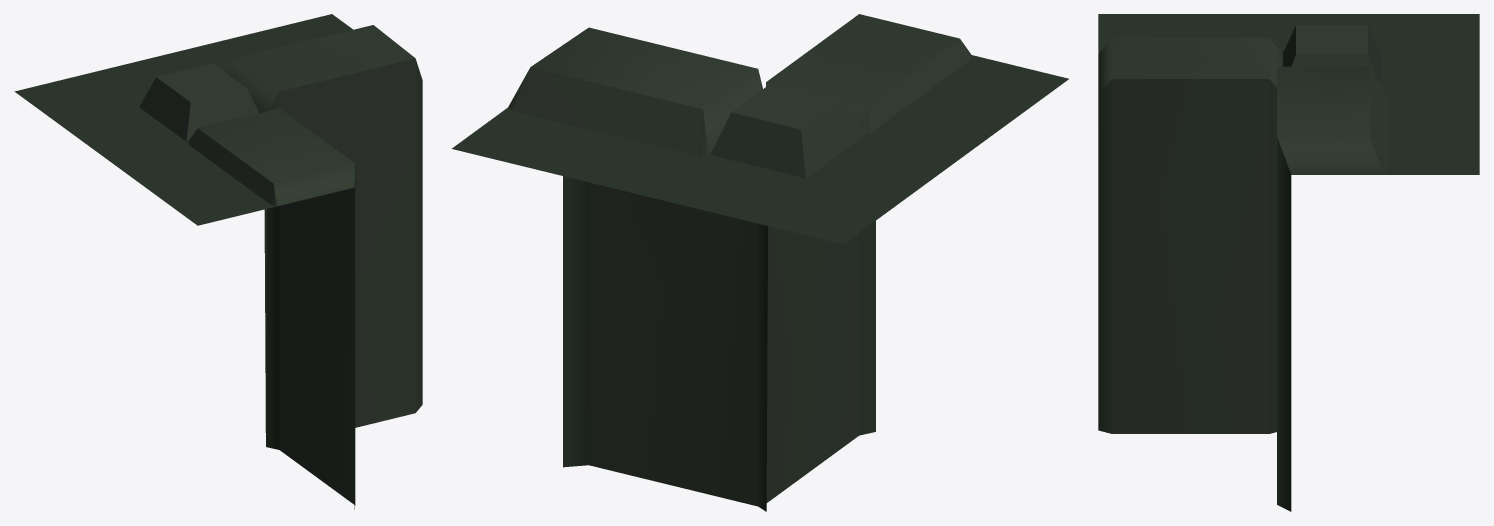
File: SF_Bld_Elven_Blockwall_Corner_01.glb
3 views of the same model, side by side, from view 1: azimuth 30°, elevation 25°; view 2: azimuth 150°, elevation 25°; view 3: azimuth 270°, elevation 25° (orthographic). The views are drawn at different scales.
Visible parts, largest first — view 1: SF_Bld_Elven_Blockwall_Corner_01; view 2: SF_Bld_Elven_Blockwall_Corner_01; view 3: SF_Bld_Elven_Blockwall_Corner_01.
Boxes of the visible parts, x1,y1,x2,y2 form: SF_Bld_Elven_Blockwall_Corner_01: (14,14,422,509); SF_Bld_Elven_Blockwall_Corner_01: (451,14,1068,511); SF_Bld_Elven_Blockwall_Corner_01: (1098,14,1479,511).
Size of the model in its own units: 0.1 by 0.1073 by 0.1.
1 material, 1 textured.
